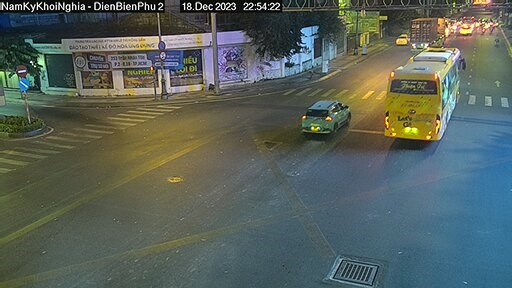bus: (384, 45, 466, 142)
car: (301, 98, 349, 137)
